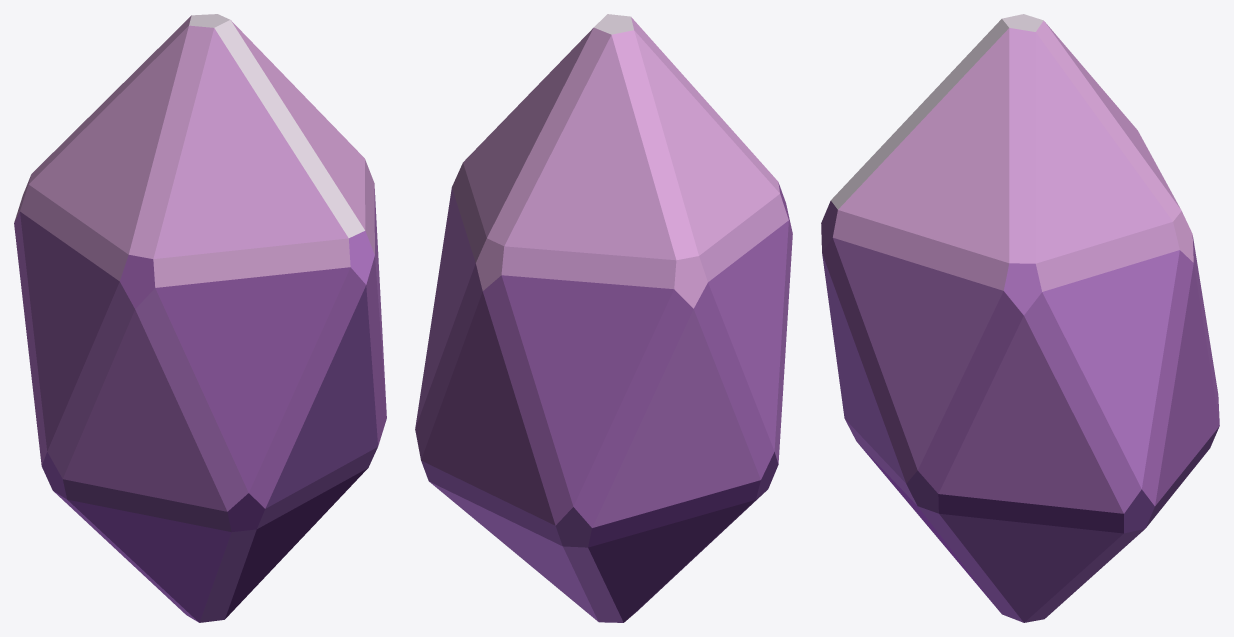
The model's file is Uncut_Gem.glb.
The picture shows the model from 3 angles, left to right: view 1: azimuth 30°, elevation 25°; view 2: azimuth 150°, elevation 25°; view 3: azimuth 270°, elevation 25°; orthographic projection.
Visible parts, largest first — view 1: Uncut_Gem; view 2: Uncut_Gem; view 3: Uncut_Gem.
Boxes of the visible parts, left/top/right/bottom form: Uncut_Gem: left=14, top=14, right=386, bottom=622; Uncut_Gem: left=415, top=14, right=792, bottom=622; Uncut_Gem: left=821, top=14, right=1219, bottom=622.
Size of the model in its own units: 0.2992 by 0.5318 by 0.3225.
